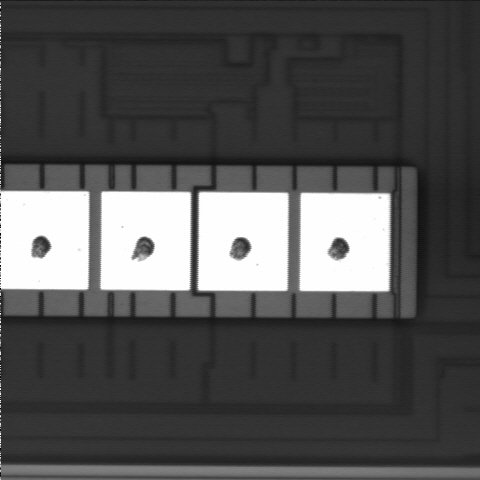pad: (198, 192, 288, 291), (101, 192, 191, 290), (300, 193, 390, 291)
